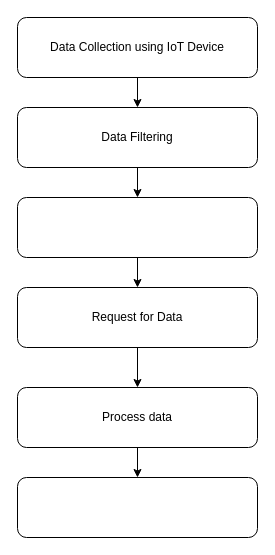
Image size: 275x555. Some labels were removed from this diagram. Each missing label, with the box of its shape:
Output a data range based on the data collection: (16, 476, 258, 538)
Upload Data to Server: (16, 196, 258, 258)
